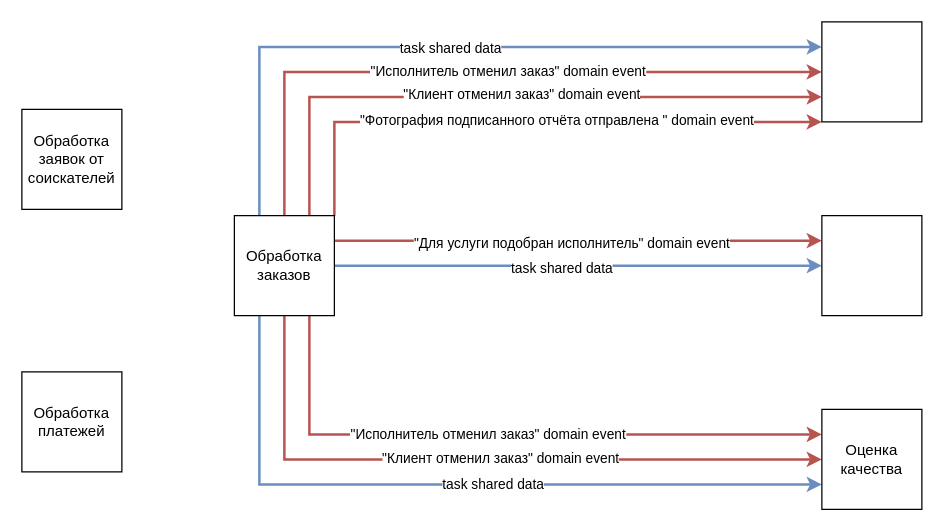
Image size: 944x531. Some labels were removed from this diagram. The box of each missing label's shape, as (x1, y1, x2, y2) in pixels:
Расходники: (821, 214, 922, 316)
Ставки: (821, 21, 922, 122)
